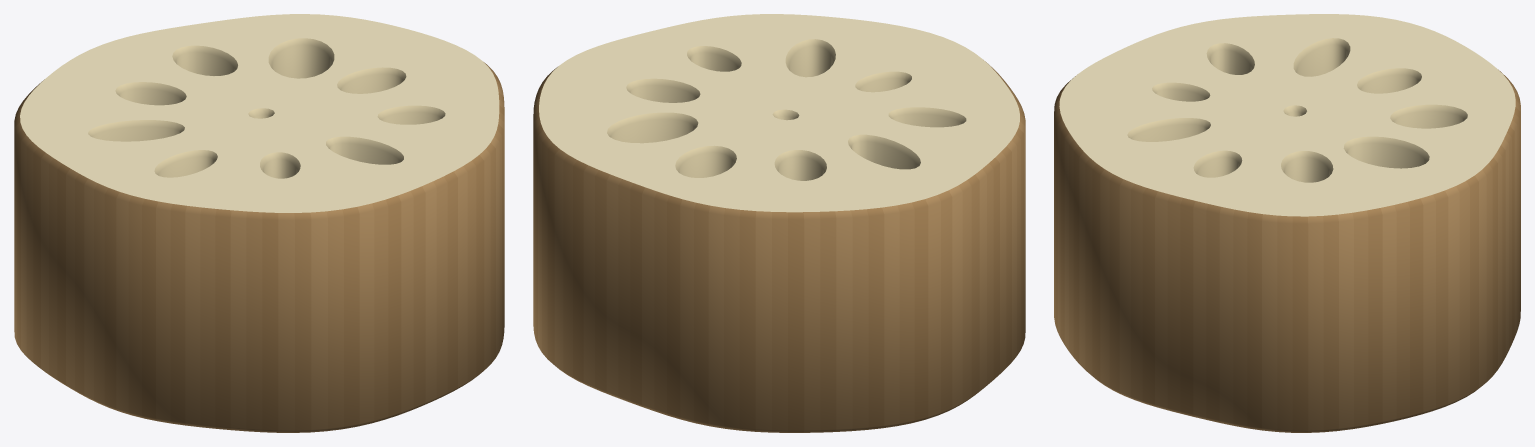
3 renders of one model, left to right at view 1: azimuth 30°, elevation 25°; view 2: azimuth 150°, elevation 25°; view 3: azimuth 270°, elevation 25°, orthographic. The views are drawn at different scales.
Parts seen in each view (by area): view 1: NEW316_Lotus_root_LOD0; view 2: NEW316_Lotus_root_LOD0; view 3: NEW316_Lotus_root_LOD0.
Part boxes in pixels (left/top/right/bottom): NEW316_Lotus_root_LOD0: left=14, top=14, right=504, bottom=432; NEW316_Lotus_root_LOD0: left=533, top=14, right=1025, bottom=432; NEW316_Lotus_root_LOD0: left=1054, top=14, right=1520, bottom=432.
Bounding box in the file's own units: 0.0903 × 0.044 × 0.086.
